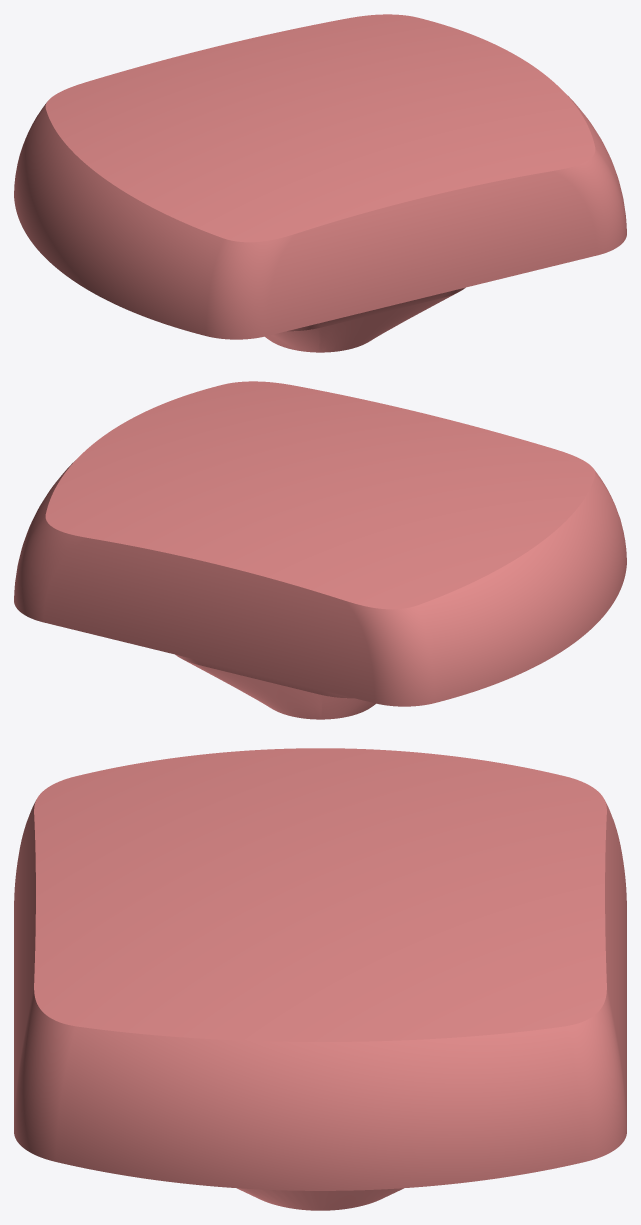
The model's file is OUTFITTING_INTERIOR__EXT. INSTRUMENTS__Furuno SCX-20 satellite compass.glb.
3 renders of one model, top to bottom at view 1: azimuth 30°, elevation 25°; view 2: azimuth 150°, elevation 25°; view 3: azimuth 270°, elevation 25°, orthographic. The views are drawn at different scales.
Visible parts, largest first — view 1: Furuno SCX-20 satellite compass; view 2: Furuno SCX-20 satellite compass; view 3: Furuno SCX-20 satellite compass.
Boxes of the visible parts, <box> form: Furuno SCX-20 satellite compass: <box>14,14,626,352</box>; Furuno SCX-20 satellite compass: <box>14,381,626,719</box>; Furuno SCX-20 satellite compass: <box>14,748,626,1210</box>.
Size of the model in its own units: 0.251 by 0.1023 by 0.1908.
